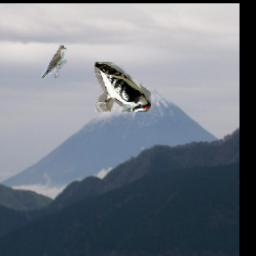Cuckoo: (40, 46, 66, 79)
Woodpecker: (94, 62, 150, 112)
